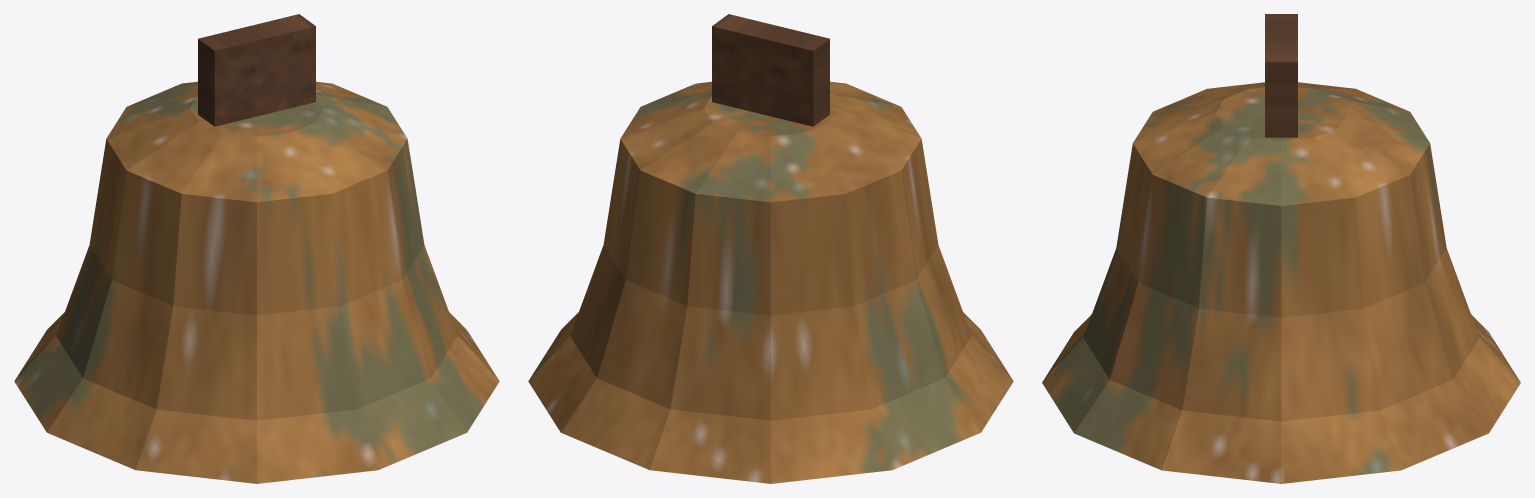
The model's file is rival_alder_bell.obj.
3 views of the same model, side by side, from view 1: azimuth 30°, elevation 25°; view 2: azimuth 150°, elevation 25°; view 3: azimuth 270°, elevation 25° (orthographic).
Visible parts, largest first — view 1: rival_alder_bell; view 2: rival_alder_bell; view 3: rival_alder_bell.
Part boxes in pixels (x1,y1,x2,y2): rival_alder_bell: [14, 14, 499, 483]; rival_alder_bell: [528, 14, 1013, 483]; rival_alder_bell: [1042, 14, 1520, 483].
Size of the model in its own units: 0.3624 by 0.3237 by 0.3624.
